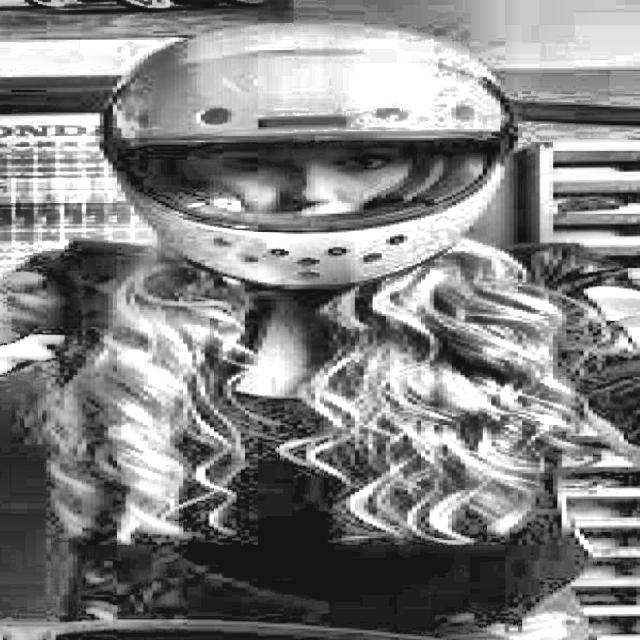Helmet: (90, 16, 514, 337)
